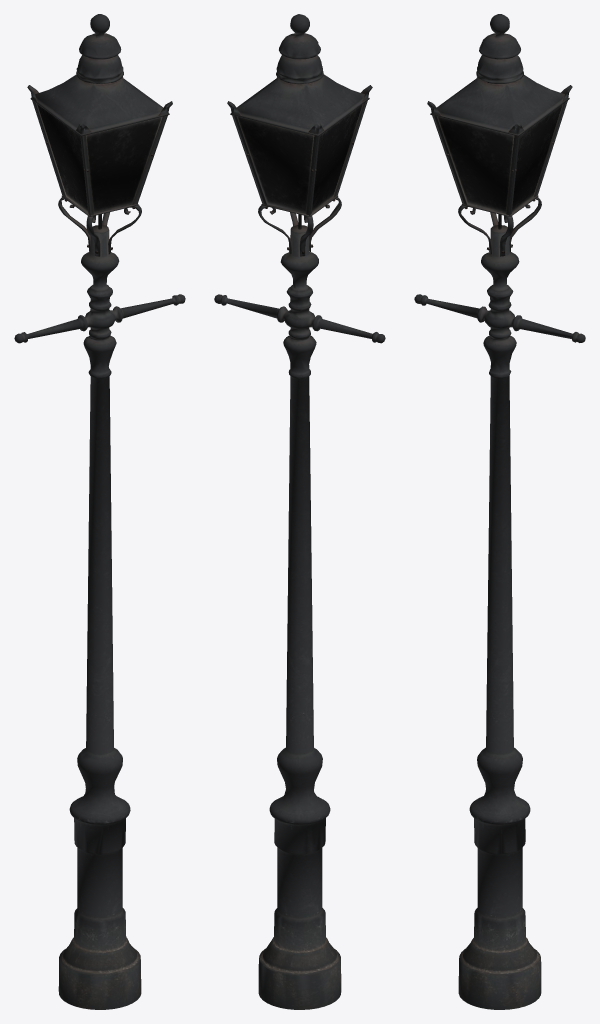
File: street_lamp_01.gltf
3 views of the same model, side by side, from view 1: azimuth 30°, elevation 25°; view 2: azimuth 150°, elevation 25°; view 3: azimuth 330°, elevation 25° (orthographic).
Visible parts, largest first — view 1: street_lamp_01; view 2: street_lamp_01; view 3: street_lamp_01.
Boxes of the visible parts, left/top/right/bottom form: street_lamp_01: left=14, top=14, right=185, bottom=1009; street_lamp_01: left=214, top=14, right=385, bottom=1009; street_lamp_01: left=414, top=14, right=585, bottom=1009.
Bounding box in the file's own units: 0.7034 × 3.87 × 0.3857.
3 materials, 3 textured.
